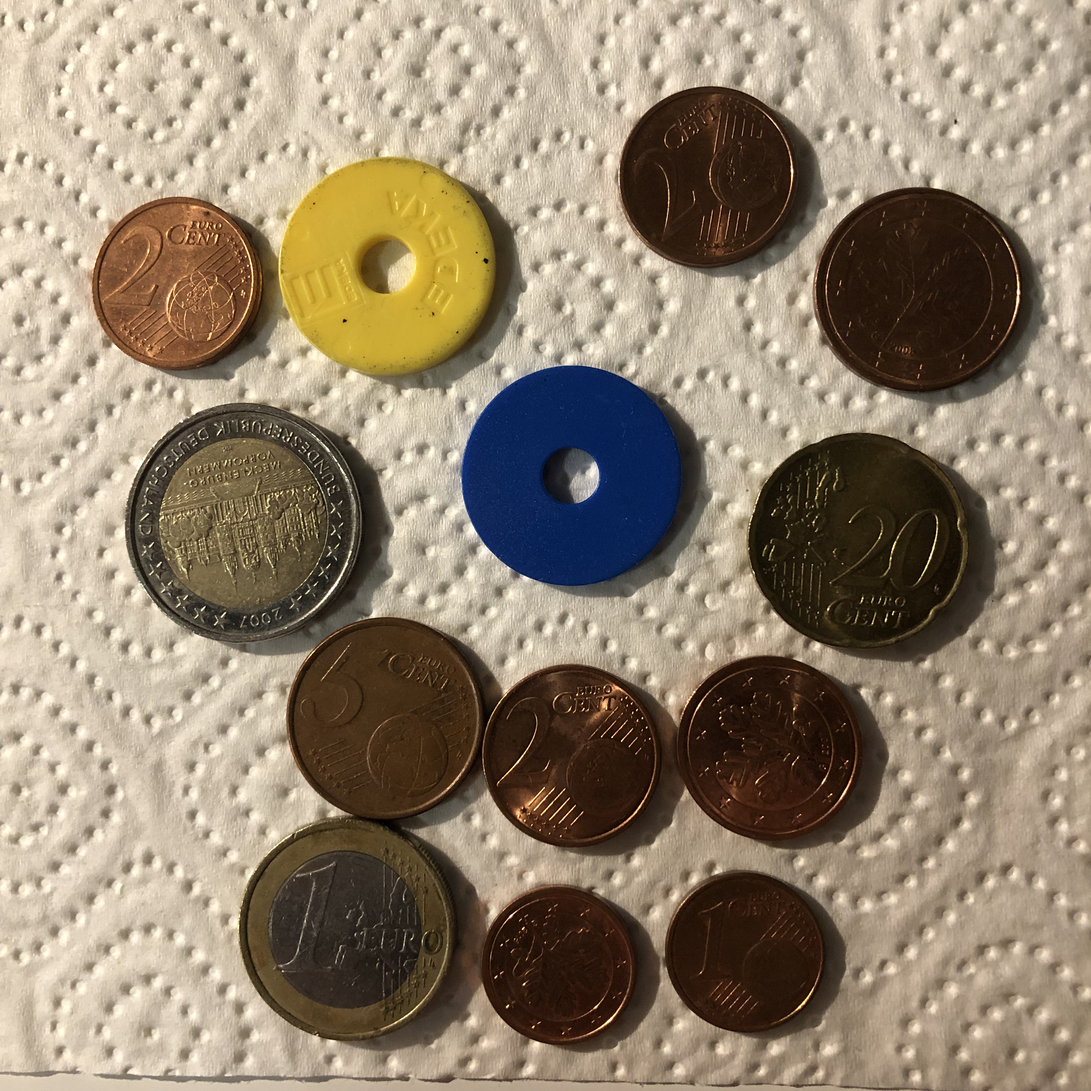1 cent: (663, 866, 828, 1031), (482, 882, 637, 1046)
1 euro: (240, 816, 457, 1041)
2 cent: (675, 654, 858, 844), (483, 661, 665, 848), (614, 85, 795, 271), (85, 194, 266, 372)
2 euro: (125, 402, 372, 648)
20 cent: (748, 427, 975, 654)
5 cent: (808, 184, 1028, 393), (292, 614, 483, 818)
